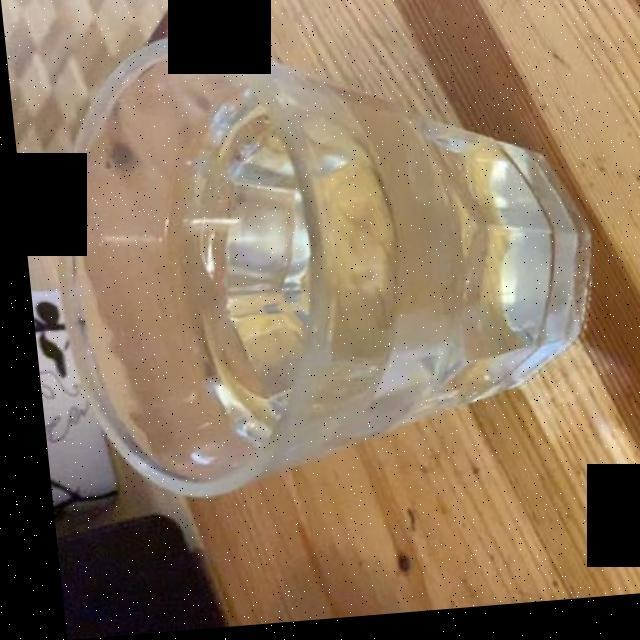water: (61, 105, 376, 477)
